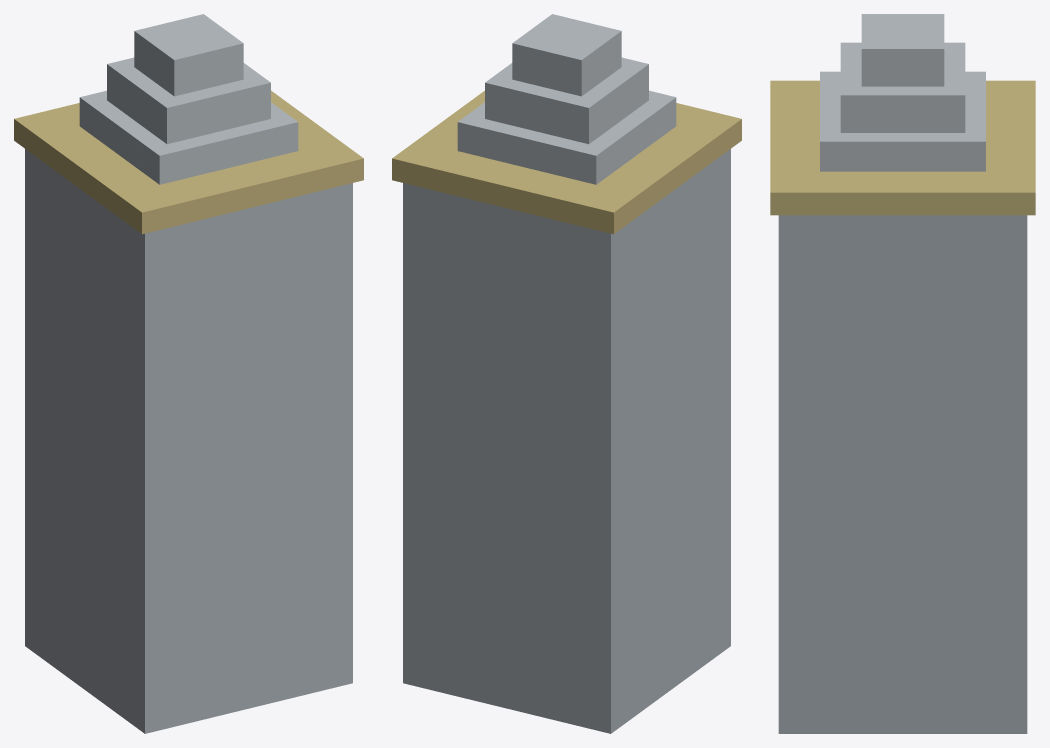
The model's file is finance.glb.
The picture shows the model from 3 angles, left to right: view 1: azimuth 30°, elevation 25°; view 2: azimuth 150°, elevation 25°; view 3: azimuth 270°, elevation 25°; orthographic projection. The views are drawn at different scales.
Parts seen in each view (by area): view 1: part_1, part_2, part_3, part_4, part_5; view 2: part_1, part_2, part_3, part_4, part_5; view 3: part_1, part_2, part_3, part_4, part_5.
Boxes of the visible parts, x1,y1,x2,y2 form: part_1: [25, 149, 352, 733]; part_2: [14, 90, 363, 234]; part_3: [79, 90, 298, 184]; part_4: [107, 57, 270, 144]; part_5: [134, 14, 243, 96]; part_1: [403, 149, 730, 733]; part_2: [392, 90, 741, 234]; part_3: [457, 90, 676, 184]; part_4: [485, 57, 648, 144]; part_5: [512, 14, 621, 96]; part_1: [778, 215, 1027, 733]; part_2: [770, 80, 1035, 215]; part_3: [820, 71, 985, 171]; part_4: [840, 42, 965, 132]; part_5: [861, 14, 944, 86].
Size of what is drawn, in the model's own units: 6.4 by 17.3 by 6.4.
